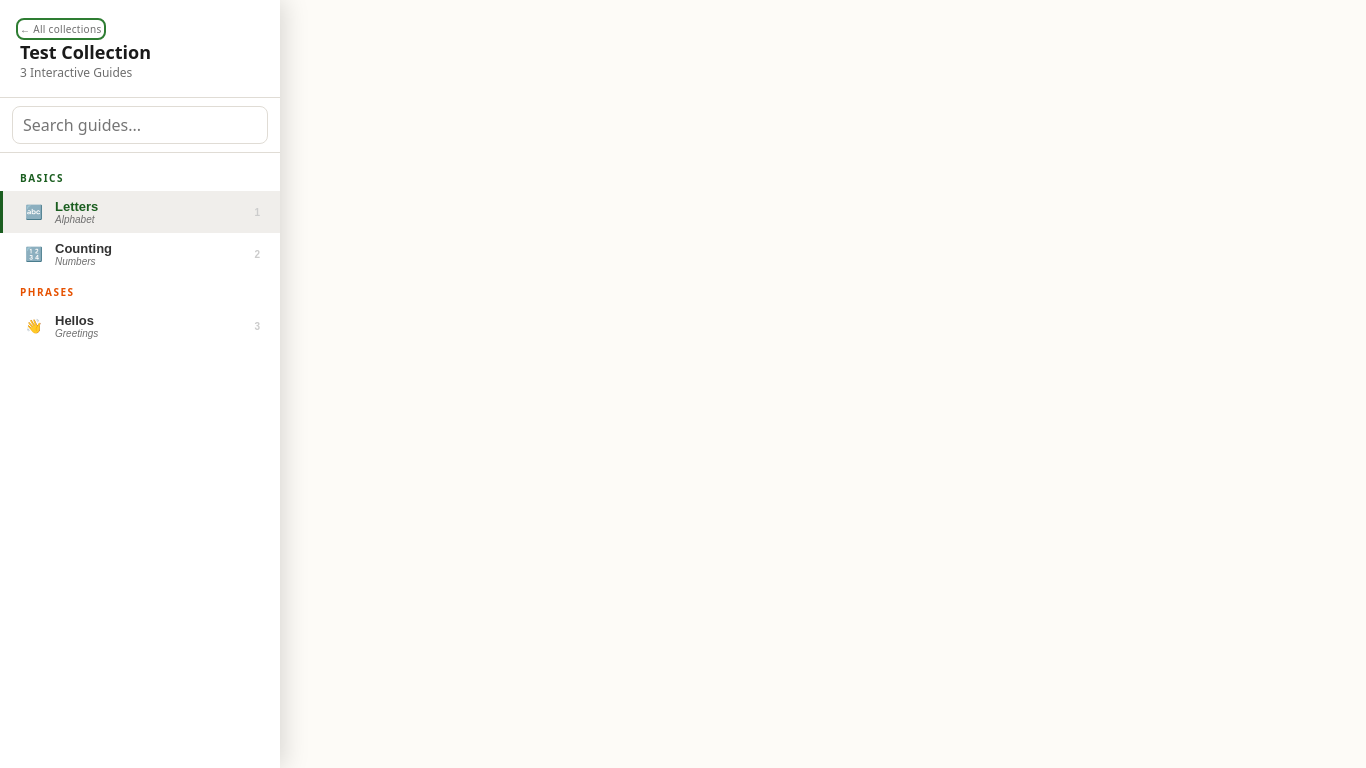
Test case: GuideSidebar › shows search results when search term is entered
The width and height of the screenshot is (1366, 768).
Type "alpha" into the field with placeholder "Search guides...".
click(140, 125); type("alpha")  # box [12,106,268,144]
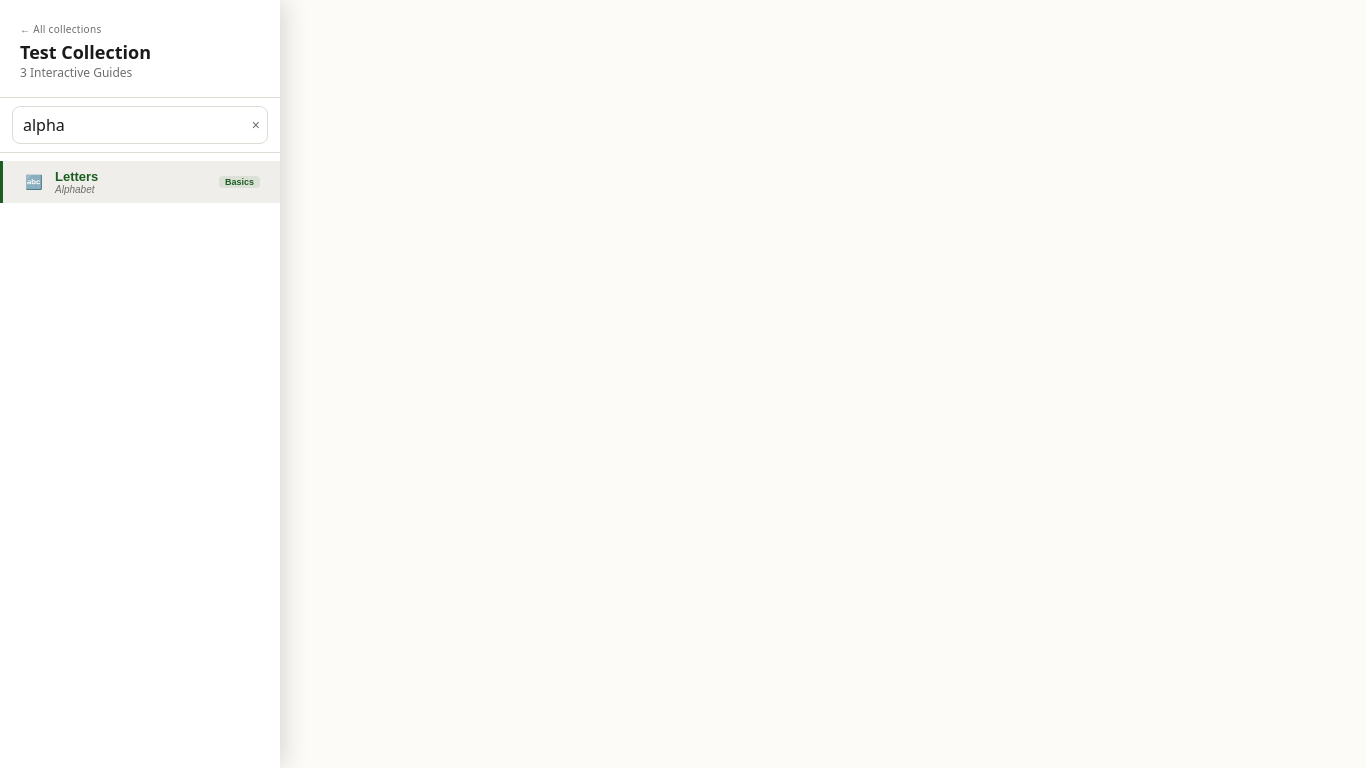
Check: the button "🔤 Letters Alphabet Basics" is shown, box [0,161,280,203]
